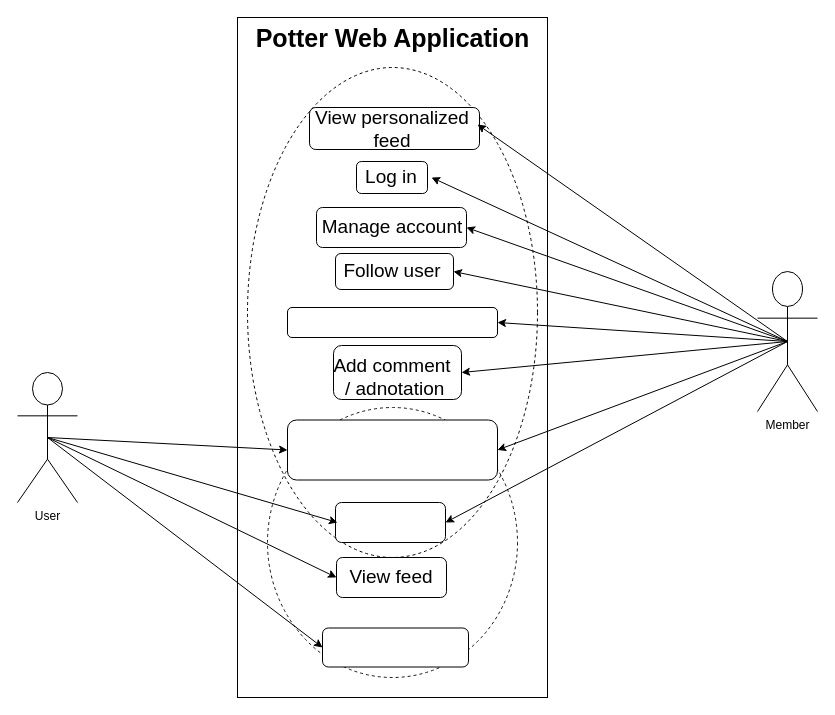
Some shapes in this 835 by 715 pixel diagram are drawn without their labels. Here are the shapes that lost their labels. From the top down, the centre of each, then its label:
At point (392, 322): "Ad d poem / translation".
At point (392, 449): "Check adnotations+comments".
At point (390, 522): "Visit poem".
At point (395, 647): "Create account".
